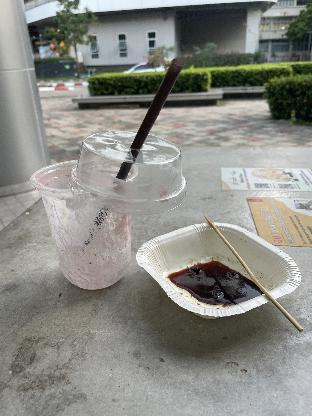Plastic Cup: (32, 156, 142, 292), (69, 126, 195, 216)
Styrofoam: (133, 218, 304, 320)
